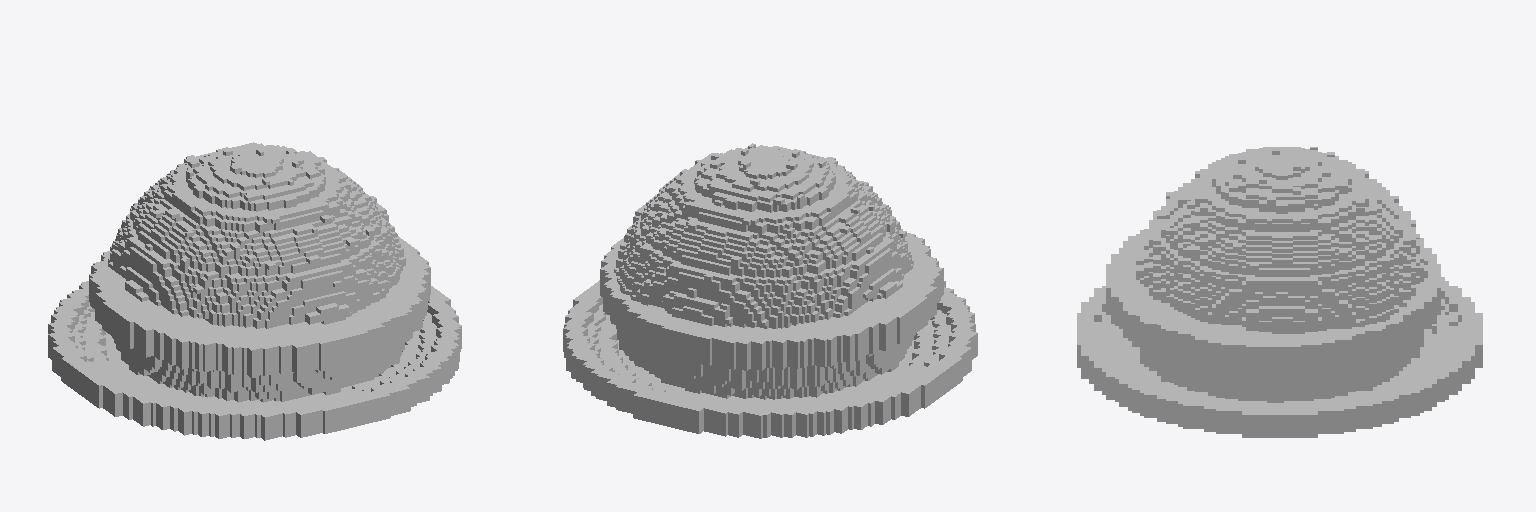
The model's file is PlatoPanLechugaTomate.obj.
3 renders of one model, left to right at view 1: azimuth 30°, elevation 25°; view 2: azimuth 150°, elevation 25°; view 3: azimuth 270°, elevation 25°, orthographic.
Visible parts, largest first — view 1: object 1; view 2: object 1; view 3: object 1.
Part boxes in pixels (x1,y1,x2,y2): object 1: (48, 142, 461, 440); object 1: (563, 143, 977, 438); object 1: (1077, 147, 1482, 437).
Size of the model in its own units: 9.6 by 5 by 9.6.